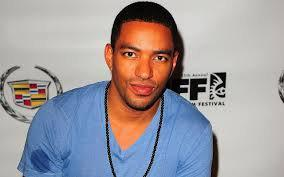Sober: (118, 27, 170, 103)
